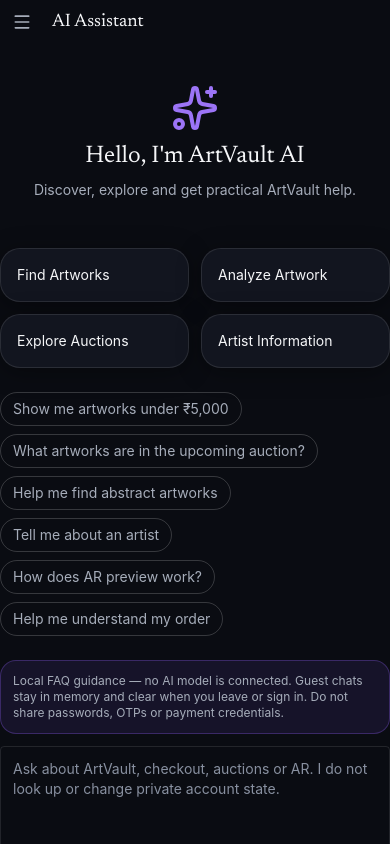
AIAssistantPage › mobile navigation correction › shows a mobile-only menu button that opens a drawer with the same real sidebar content
Step 1. Click the button named "Open AI Assistant menu" → {"x": 22, "y": 22}, box [0,0,44,44]
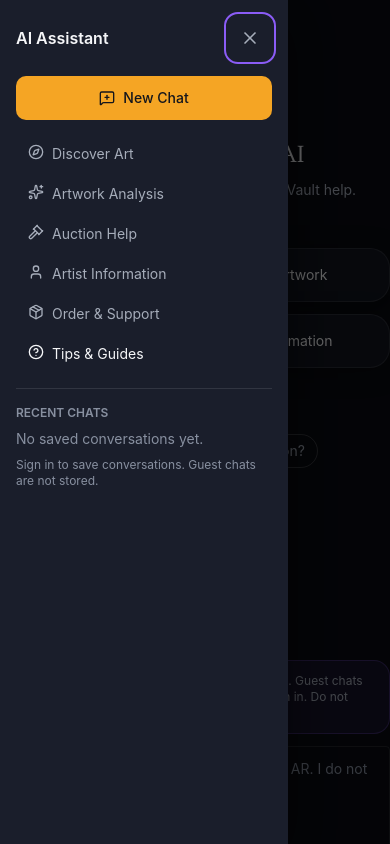
Now the dialog "AI Assistant" is shown
Now the text "No saved conversations yet." is shown, box [16,430,203,447]
